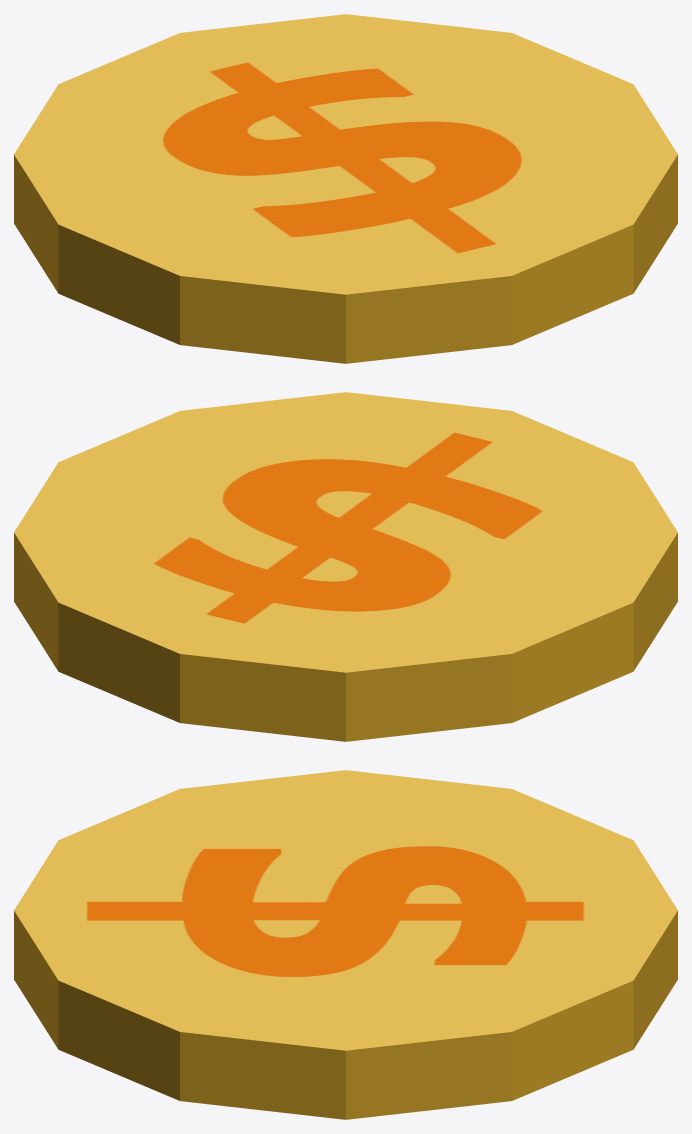
The model's file is money.fbx.
3 views of the same model, one above another, from view 1: azimuth 30°, elevation 25°; view 2: azimuth 150°, elevation 25°; view 3: azimuth 270°, elevation 25° (orthographic).
Parts seen in each view (by area): view 1: pCylinder1; view 2: pCylinder1; view 3: pCylinder1.
Part boxes in pixels (x1,y1,x2,y2): pCylinder1: (14,14,677,363); pCylinder1: (14,392,677,741); pCylinder1: (14,770,677,1119).
Bounding box in the file's own units: 2 × 0.2298 × 2.
Materials: 1 (1 with a texture image).
